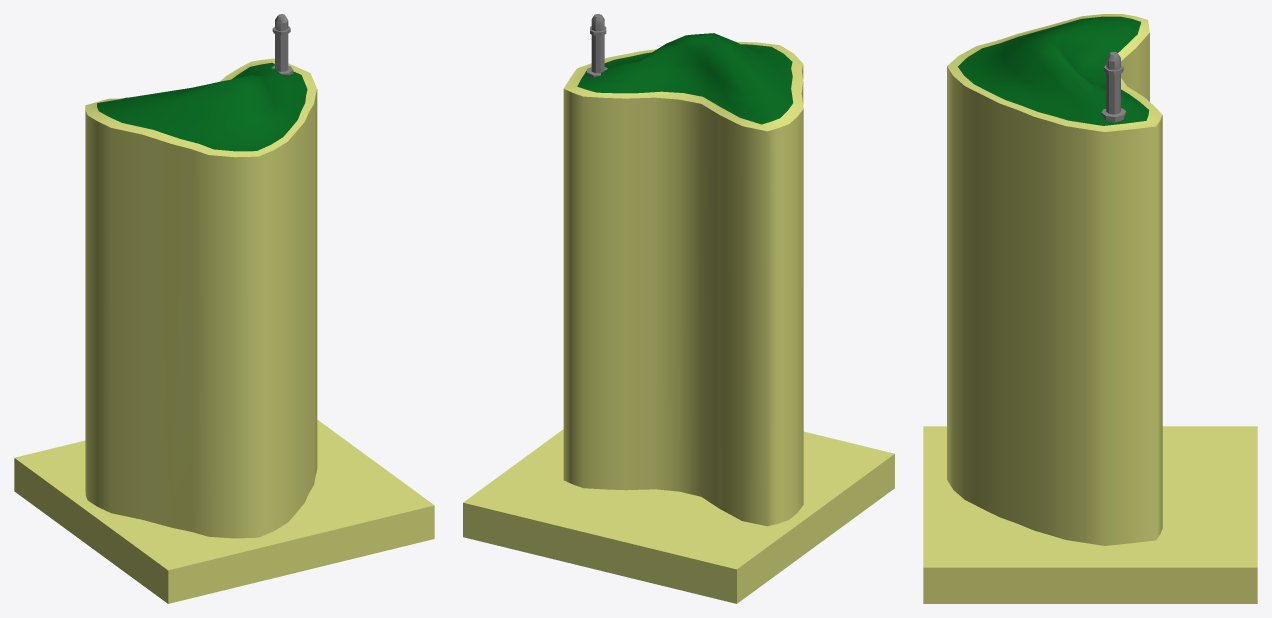
File: Quest_Little_Island_02.fbx
3 views of the same model, side by side, from view 1: azimuth 30°, elevation 25°; view 2: azimuth 150°, elevation 25°; view 3: azimuth 270°, elevation 25° (orthographic). The views are drawn at different scales.
Visible parts, largest first — view 1: Quest_Little_Island_02, Little_Quest_02; view 2: Quest_Little_Island_02, Little_Quest_02; view 3: Quest_Little_Island_02, Little_Quest_02.
Boxes of the visible parts, <box> form: Quest_Little_Island_02: <box>14,58,434,603</box>; Little_Quest_02: <box>271,14,293,74</box>; Quest_Little_Island_02: <box>463,33,894,603</box>; Little_Quest_02: <box>587,14,607,77</box>; Quest_Little_Island_02: <box>923,14,1257,603</box>; Little_Quest_02: <box>1101,51,1126,122</box>.
Size of the model in its own units: 34.03 by 57.96 by 34.03.
